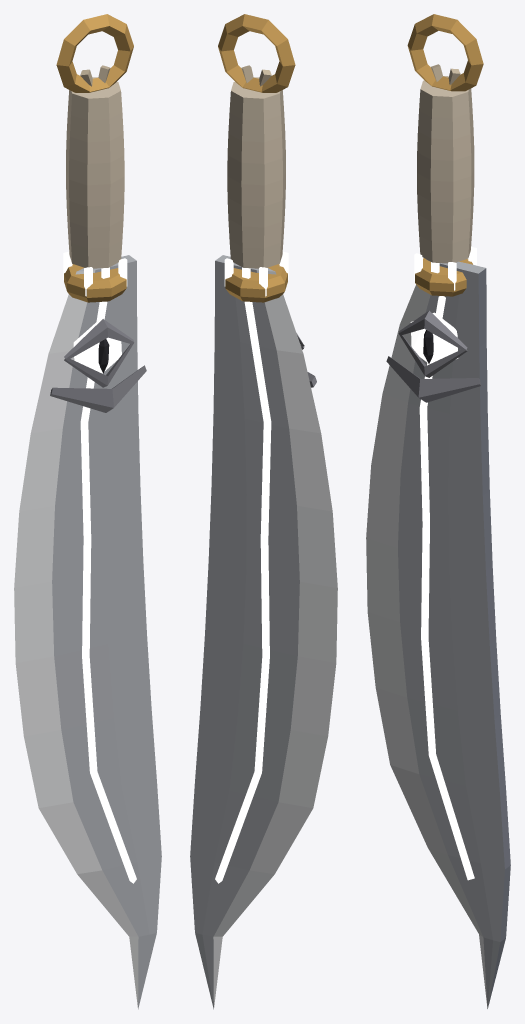
File: blade-skinning-knife.glb
3 renders of one model, left to right at view 1: azimuth 30°, elevation 25°; view 2: azimuth 150°, elevation 25°; view 3: azimuth 330°, elevation 25°, orthographic. The views are drawn at different scales.
Parts seen in each view (by area): view 1: blade-skinning-knife, pulse_vein, blink_eye, pulse_breath; view 2: blade-skinning-knife, pulse_vein, pulse_breath; view 3: blade-skinning-knife, pulse_vein, blink_eye, pulse_breath.
Boxes of the visible parts, left/top/right/bottom form: blade-skinning-knife: left=14, top=14, right=161, bottom=1009; pulse_vein: left=80, top=301, right=136, bottom=883; blink_eye: left=64, top=319, right=134, bottom=387; pulse_breath: left=63, top=251, right=127, bottom=296; blade-skinning-knife: left=190, top=14, right=337, bottom=1009; pulse_vein: left=215, top=301, right=271, bottom=883; pulse_breath: left=224, top=251, right=288, bottom=296; blade-skinning-knife: left=366, top=14, right=510, bottom=1008; pulse_vein: left=419, top=296, right=474, bottom=880; blink_eye: left=398, top=310, right=467, bottom=377; pulse_breath: left=414, top=246, right=476, bottom=290.
Bounding box in the file's own units: 0.1691 × 1.12 × 0.0798.
